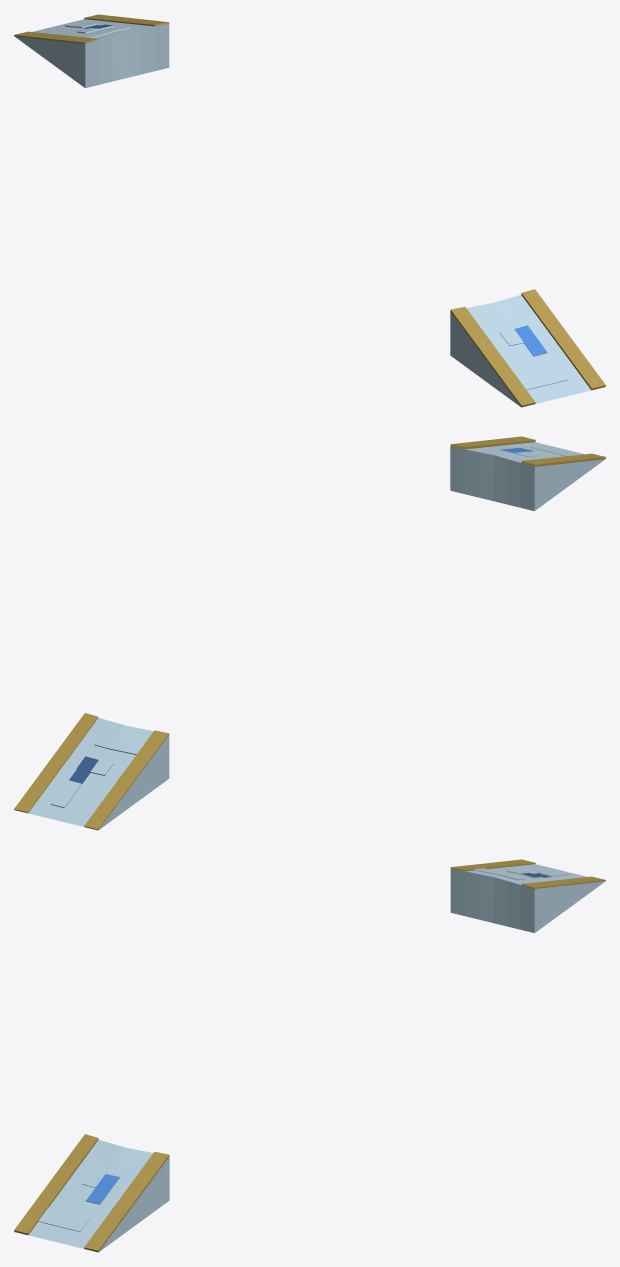
File: Checkpoint Paths1.fbx
3 renders of one model, top to bottom at view 1: azimuth 30°, elevation 25°; view 2: azimuth 150°, elevation 25°; view 3: azimuth 330°, elevation 25°, orthographic.
Parts seen in each view (by area): view 1: Slope.005, Slope.004; view 2: Slope.004, Slope.005; view 3: Slope.005, Slope.004.
Part boxes in pixels (x1,y1,x2,y2): Slope.005: [450, 289, 605, 407]; Slope.004: [14, 14, 169, 88]; Slope.004: [14, 713, 169, 830]; Slope.005: [450, 436, 605, 510]; Slope.005: [14, 1134, 169, 1252]; Slope.004: [450, 859, 605, 933].
Bounding box in the file's own units: 200 × 105 × 2089.
